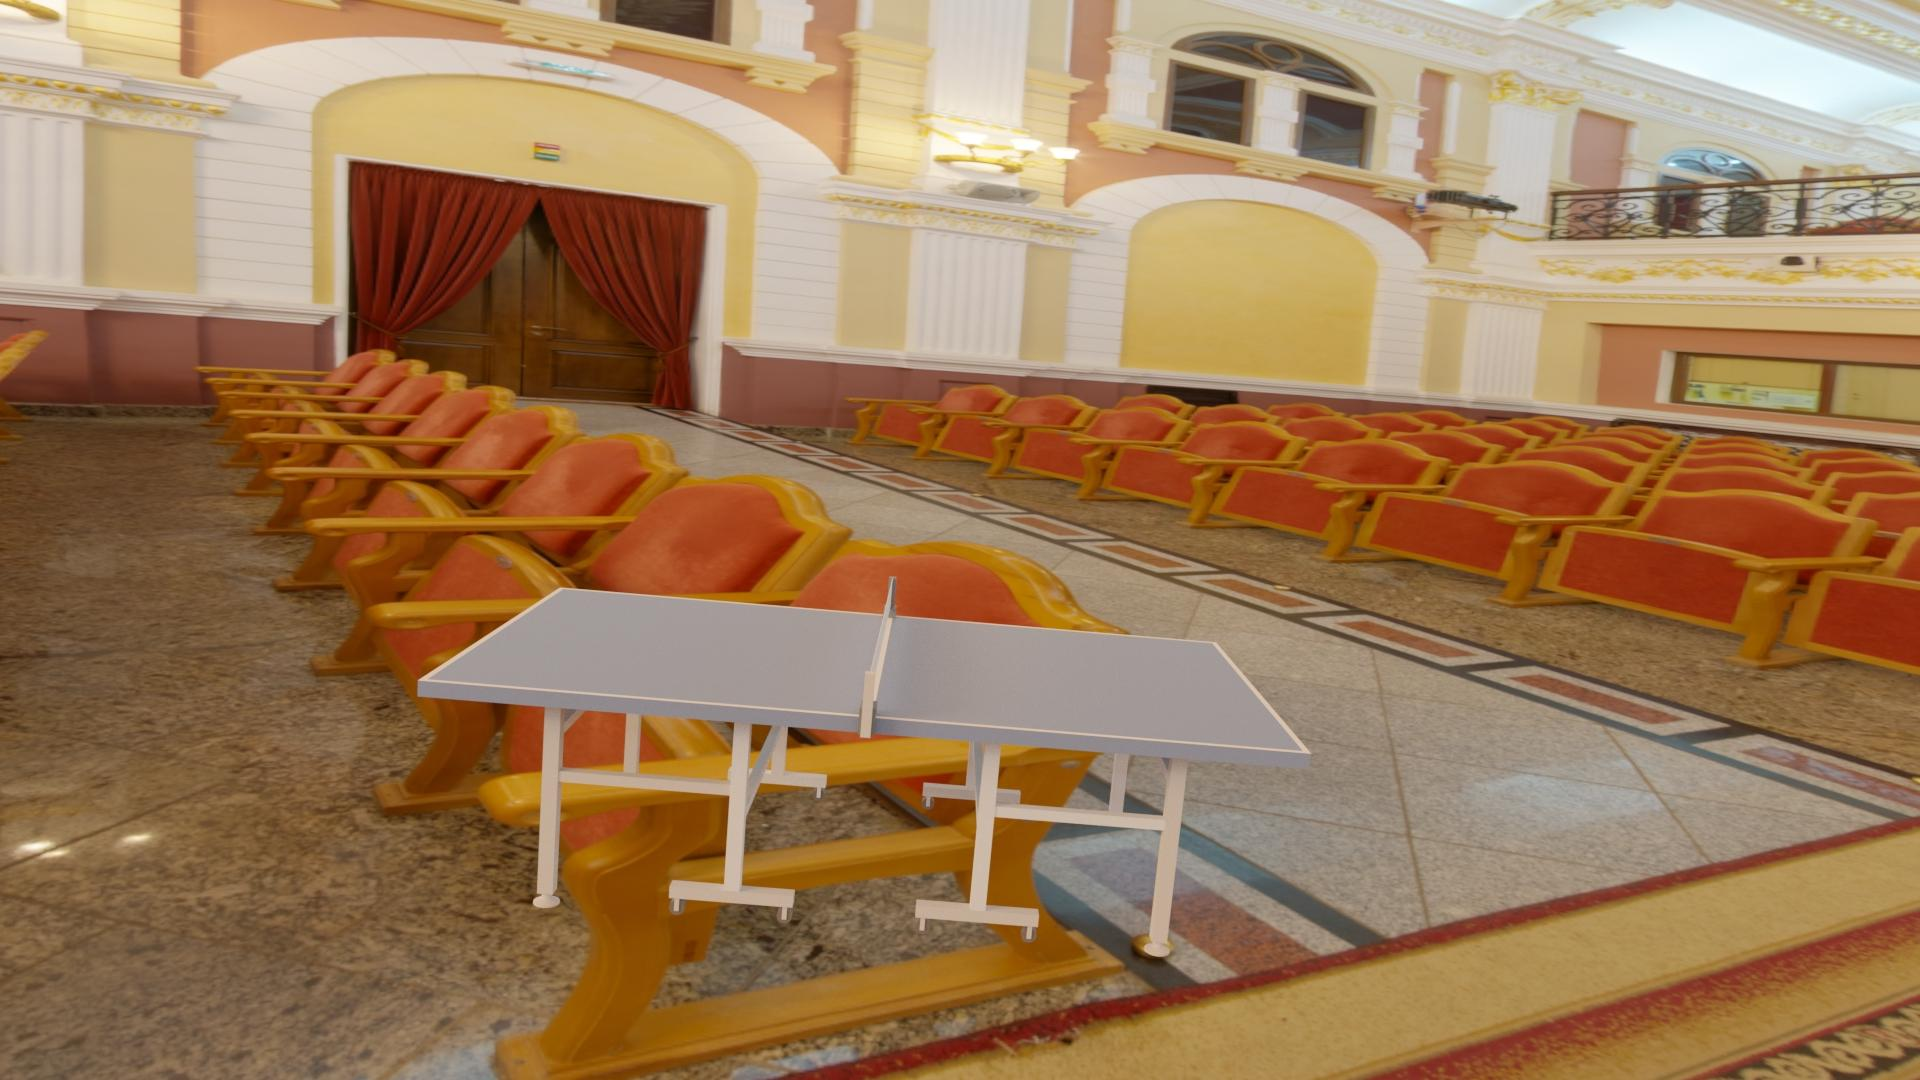table: (427, 589, 1303, 752)
